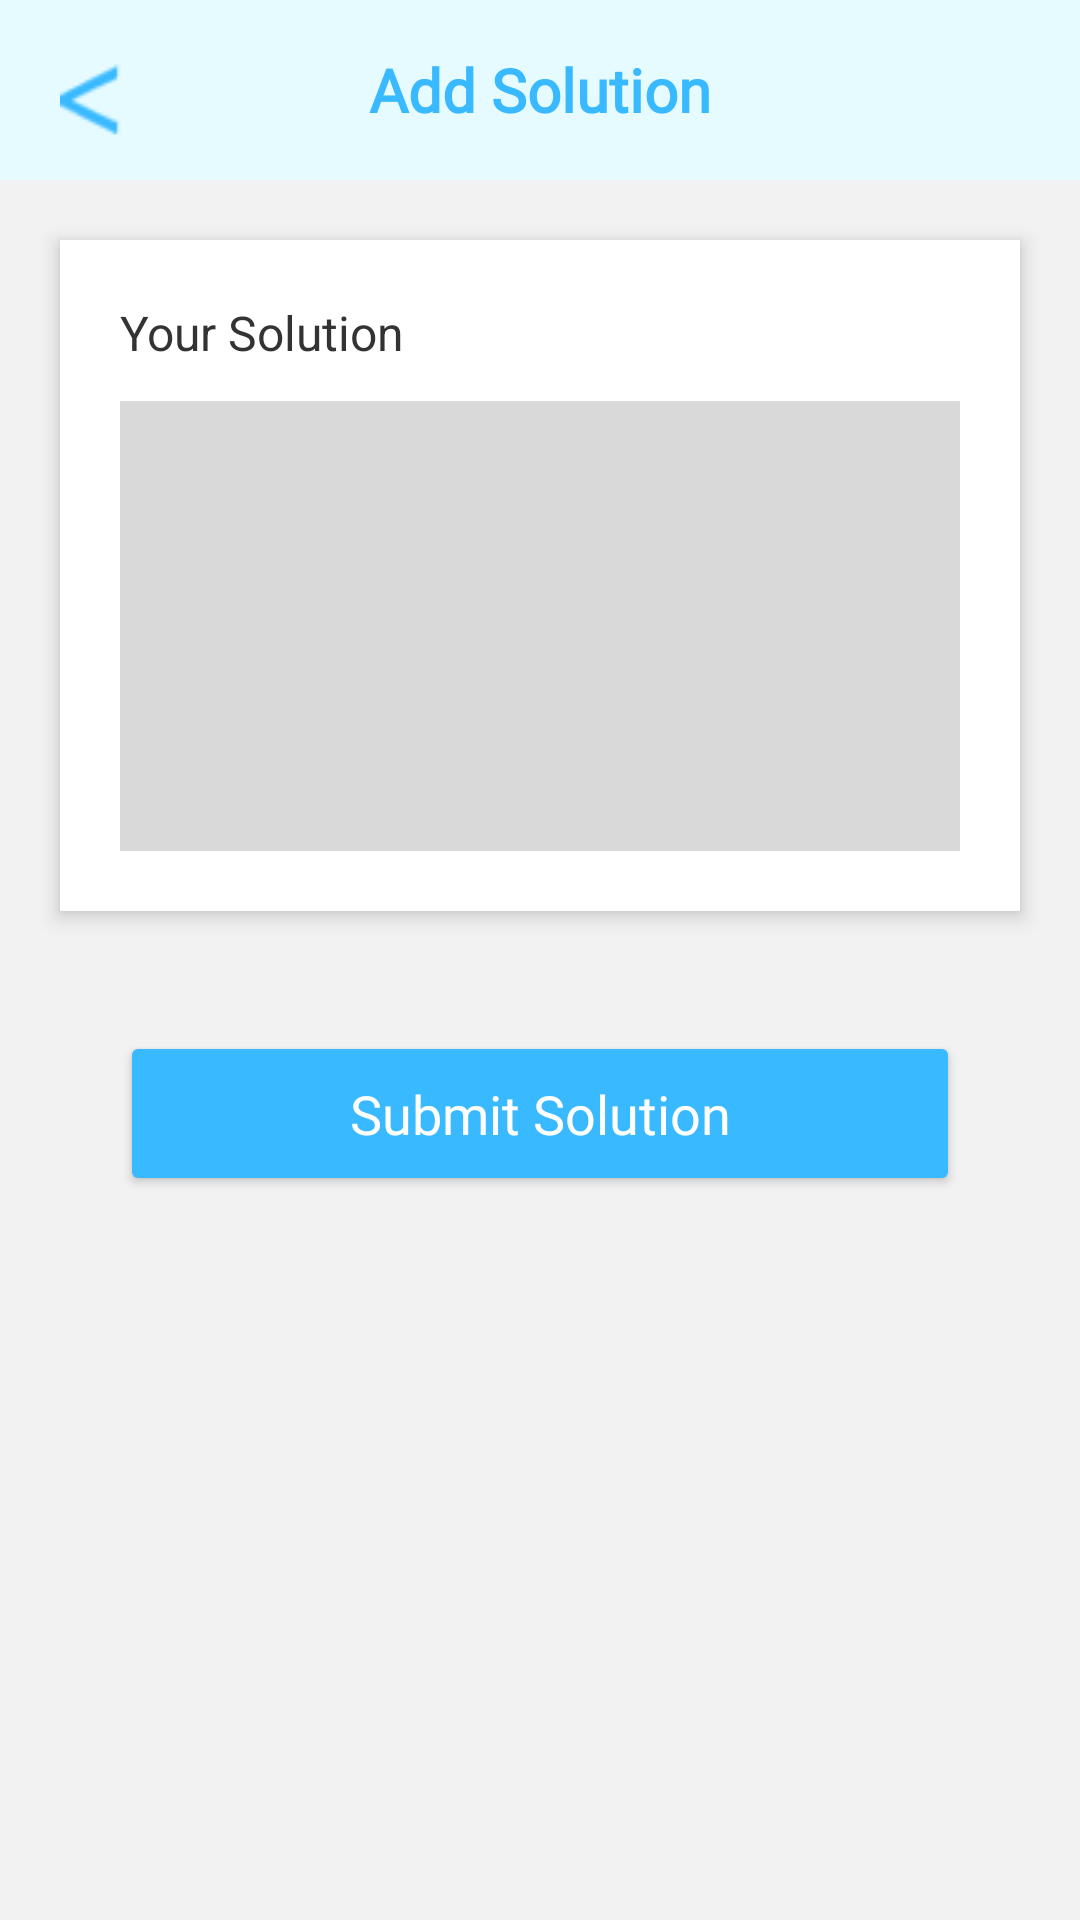

Where icons sit on this 1080 × 1920 app screen, as (x1,y1,x2,y2):
back: (60,65,118,135)
